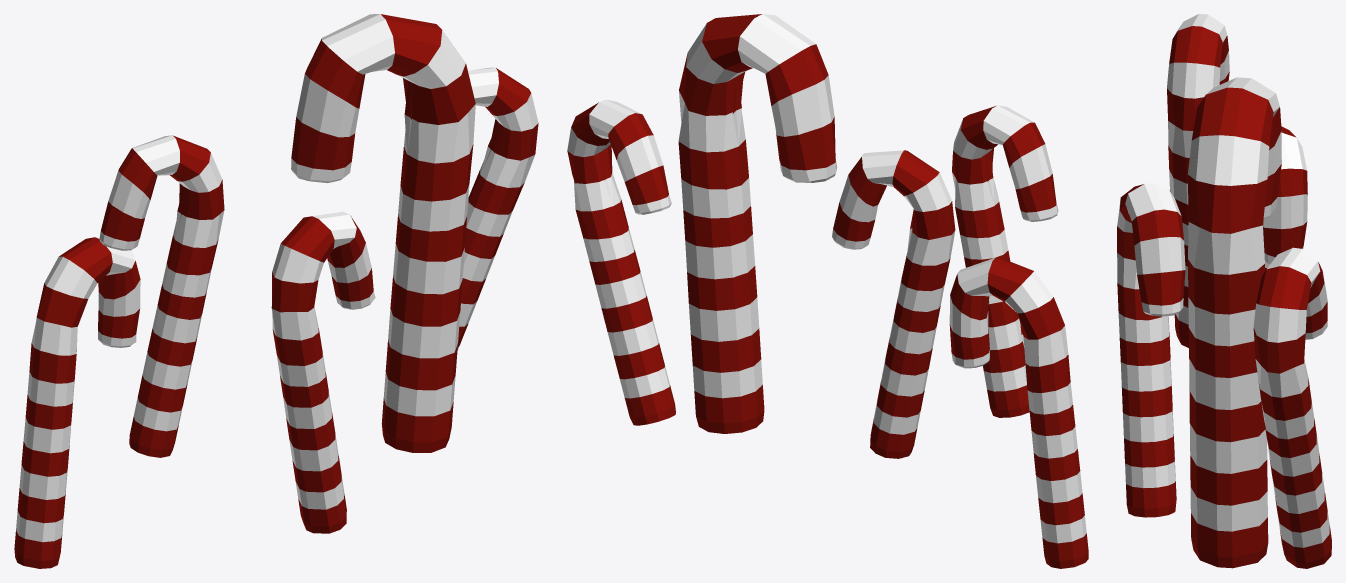
File: Checkpoint.fbx
The picture shows the model from 3 angles, left to right: view 1: azimuth 30°, elevation 25°; view 2: azimuth 150°, elevation 25°; view 3: azimuth 270°, elevation 25°; orthographic projection. The views are drawn at different scales.
Parts seen in each view (by area): view 1: Meta; view 2: Meta; view 3: Meta.
Part boxes in pixels (x1=…): Meta: x1=14, y1=14, x2=538, y2=568; Meta: x1=567, y1=14, x2=1088, y2=568; Meta: x1=1117, y1=14, x2=1331, y2=568.
Bounding box in the file's own units: 480 × 413 × 162.
